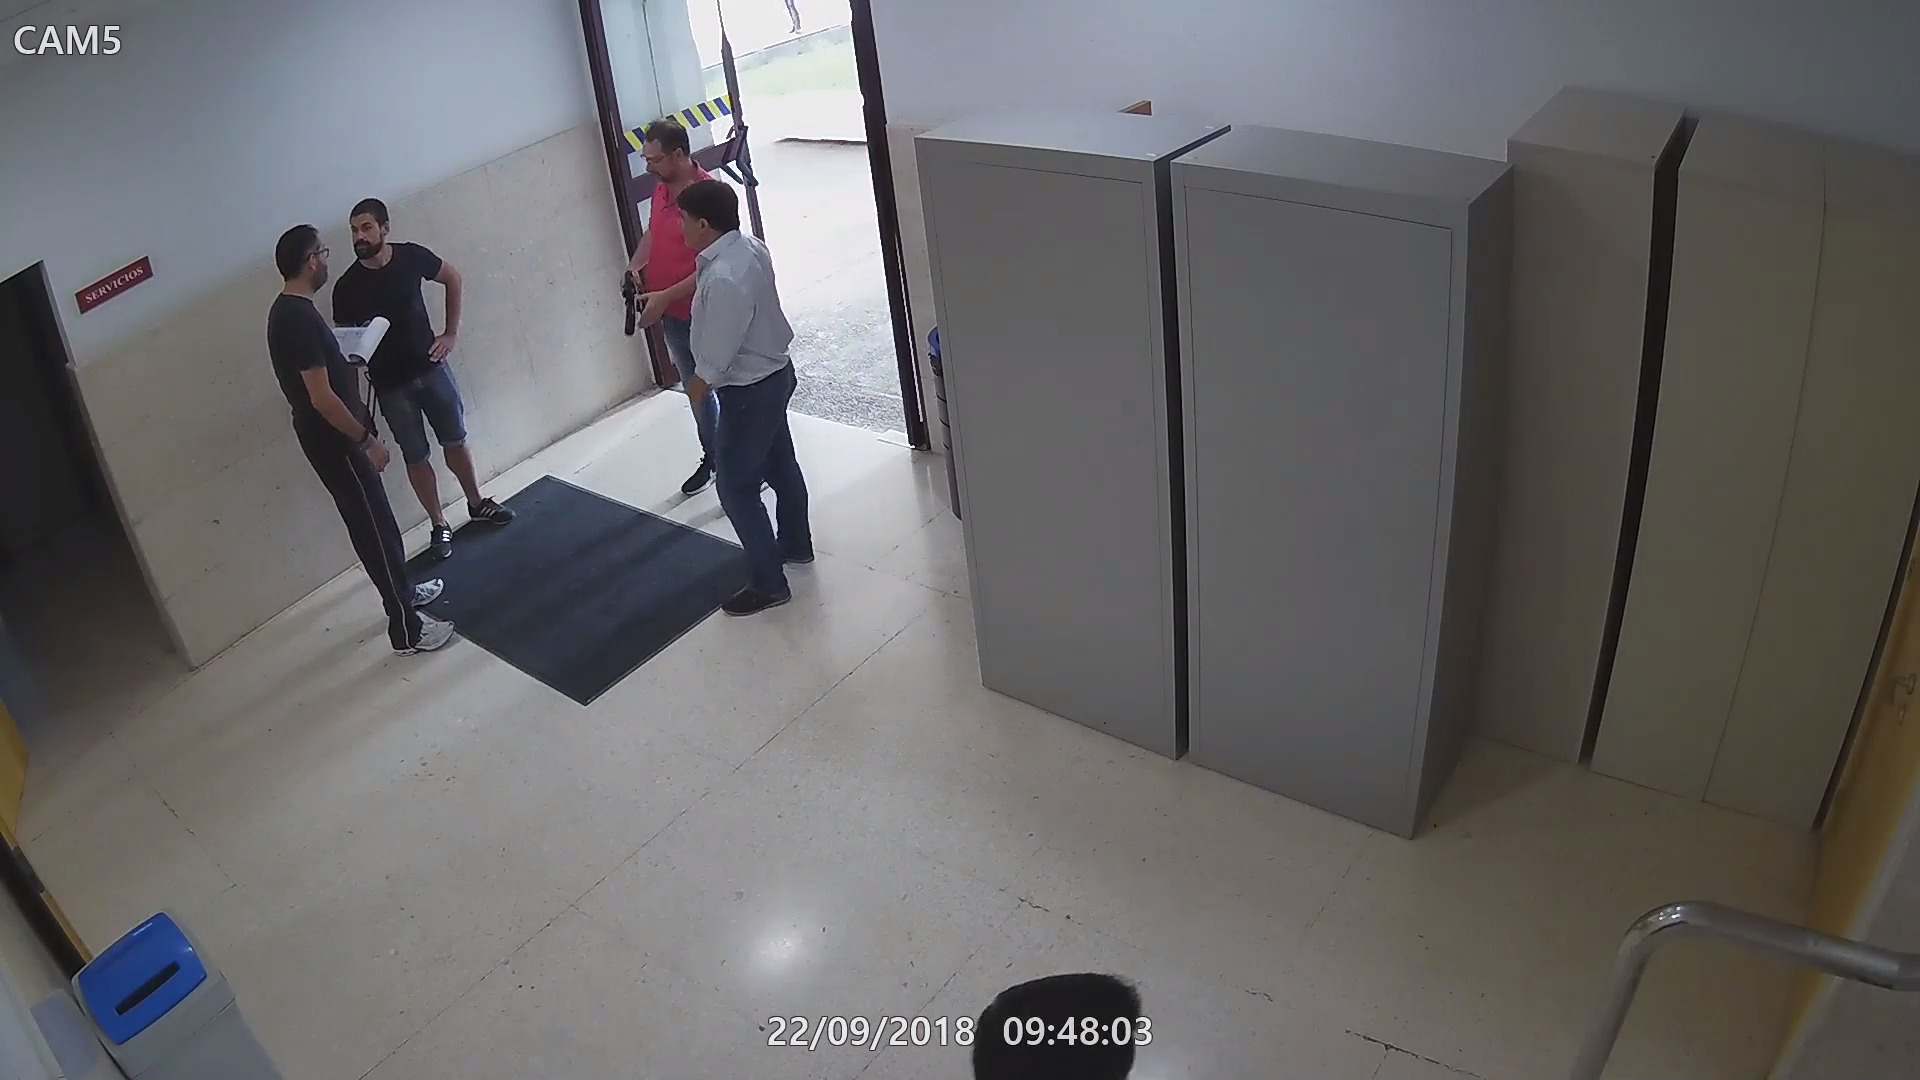Short_rifle: (620, 266, 646, 345)
